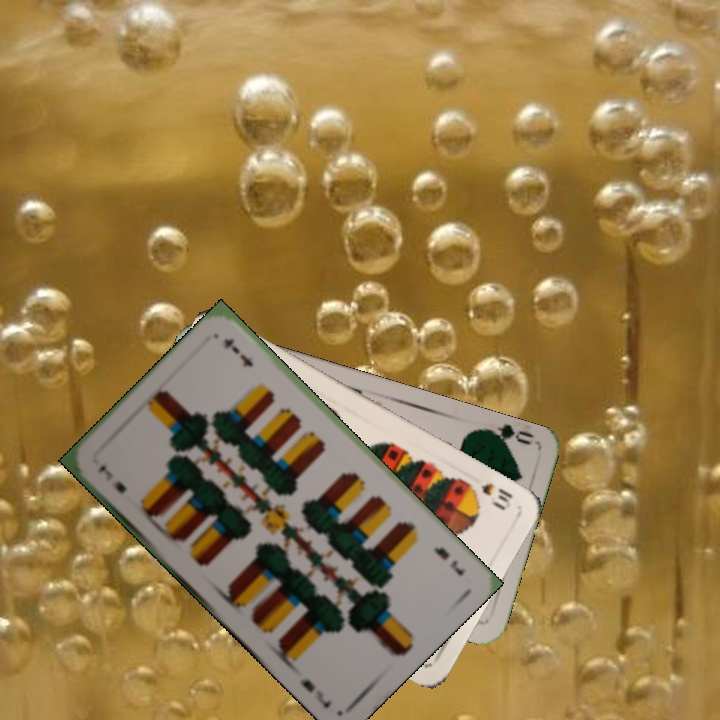E7: (429, 543, 468, 578), (94, 461, 129, 496)
GO: (477, 421, 536, 452)
S10: (462, 477, 516, 512)
